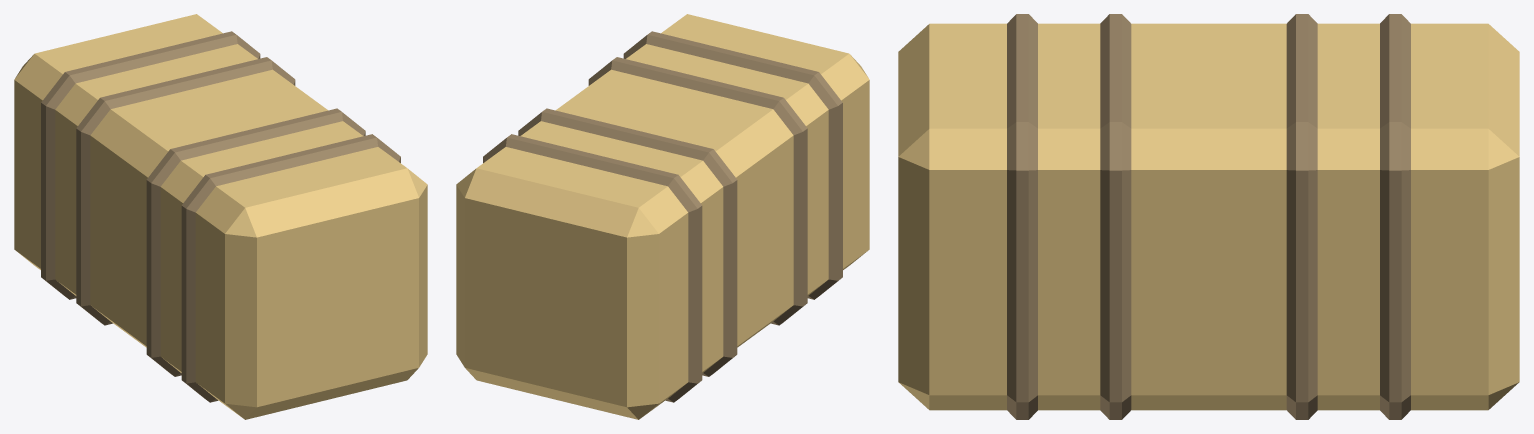
Rendered from Prop_Decorative_Hay_Bale_Box.obj.
3 views of the same model, side by side, from view 1: azimuth 30°, elevation 25°; view 2: azimuth 150°, elevation 25°; view 3: azimuth 270°, elevation 25° (orthographic). The views are drawn at different scales.
Parts seen in each view (by area): view 1: Bale_Center, Bale_End, Strap; view 2: Bale_Center, Bale_End, Strap; view 3: Bale_Center, Strap.
Boxes of the visible parts, x1,y1,x2,y2 form: Bale_Center: (14,14,427,419); Bale_End: (257,198,418,407); Strap: (41,31,400,402); Bale_Center: (456,14,869,419); Bale_End: (465,198,626,407); Strap: (483,31,842,402); Bale_Center: (898,23,1519,410); Strap: (1007,14,1410,419).
Bounding box in the file's own units: 0.529 × 0.529 × 1.
